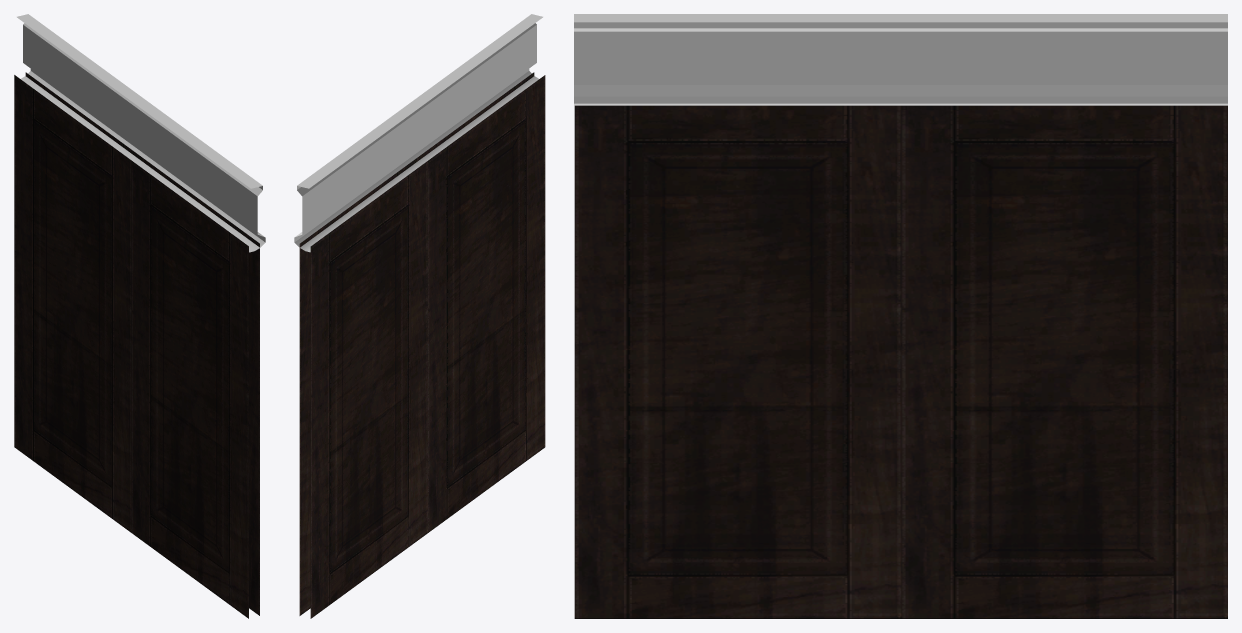
Rendered from engineroom_balcony_office_wall_small.DAE.
3 views of the same model, side by side, from view 1: azimuth 30°, elevation 25°; view 2: azimuth 150°, elevation 25°; view 3: azimuth 270°, elevation 25° (orthographic). The views are drawn at different scales.
Parts seen in each view (by area): view 1: Box026, balcony_straight_metal013; view 2: Box026, balcony_straight_metal013; view 3: Box026, balcony_straight_metal013.
Boxes of the visible parts, bbox=[...] form: Box026: bbox=[14, 72, 259, 618]; balcony_straight_metal013: bbox=[17, 14, 265, 252]; Box026: bbox=[299, 72, 545, 618]; balcony_straight_metal013: bbox=[294, 14, 542, 252]; Box026: bbox=[574, 105, 1227, 618]; balcony_straight_metal013: bbox=[574, 14, 1227, 105].
Bounding box in the file's own units: 0.1607 × 4 × 4.04.
